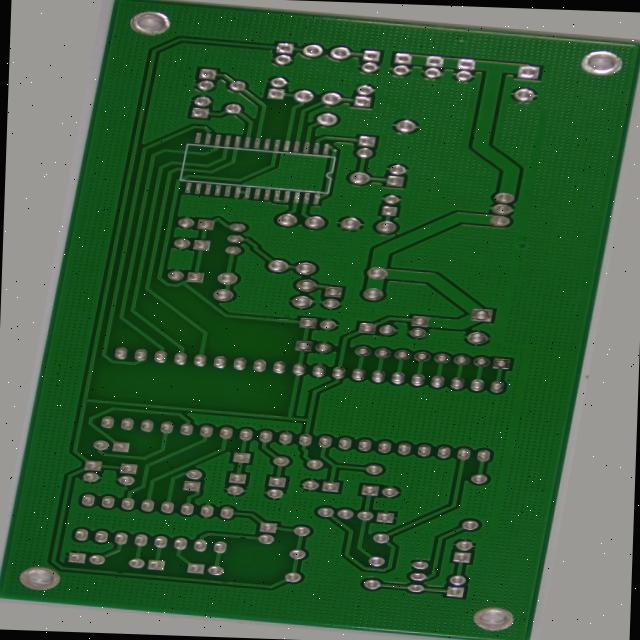mouse_bite: (125, 587, 143, 596), (489, 568, 504, 577), (262, 545, 276, 552)
